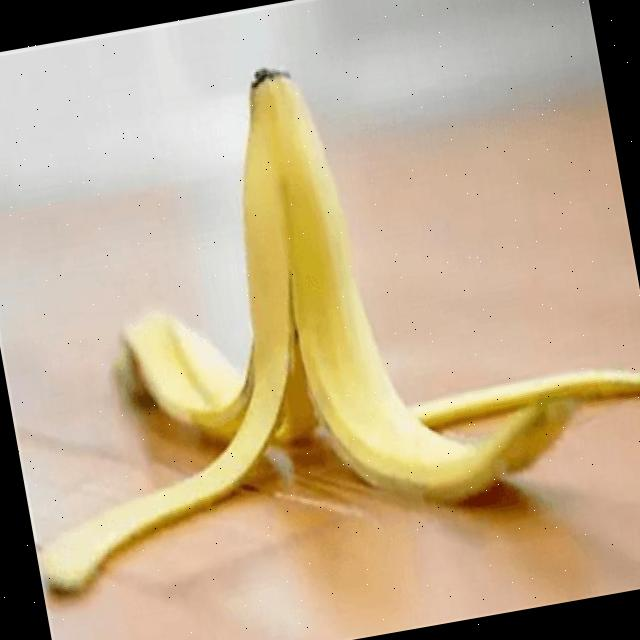banana-peel: (0, 8, 640, 599)
